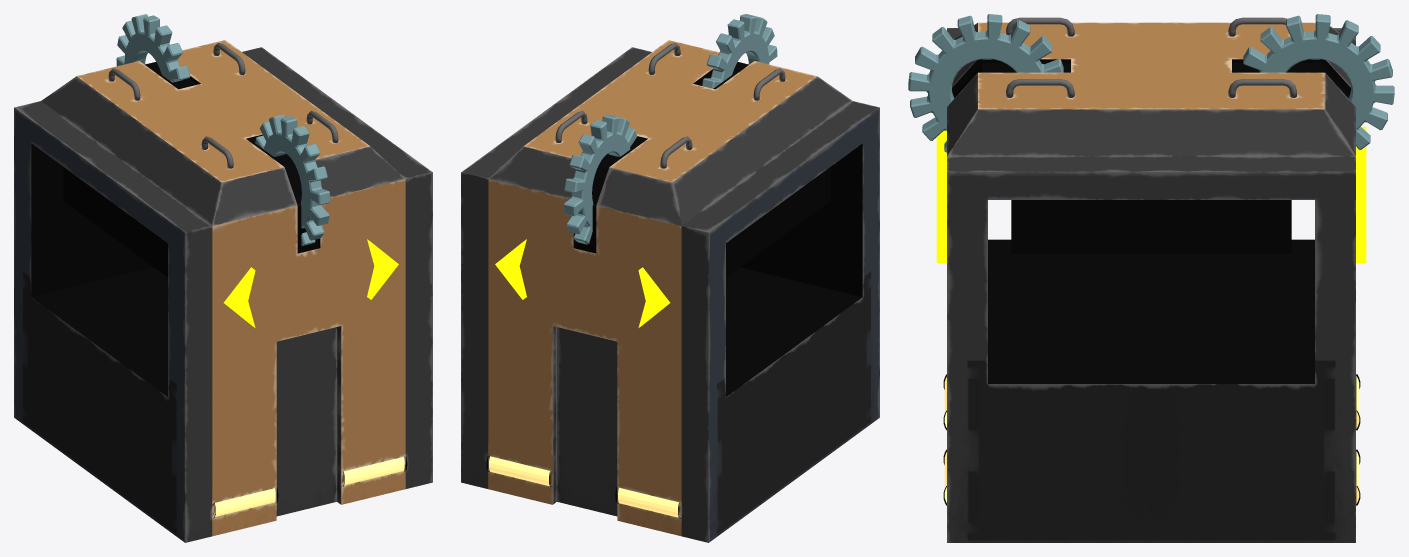
Rendered from constructor.gltf.
3 views of the same model, side by side, from view 1: azimuth 30°, elevation 25°; view 2: azimuth 150°, elevation 25°; view 3: azimuth 270°, elevation 25° (orthographic). The views are drawn at different scales.
Parts seen in each view (by area): view 1: constructor, LeftArrow_z-, RightArrow_z-; view 2: constructor, RightArrow_z+, LeftArrow_z+; view 3: constructor, LeftArrow_z+, RightArrow_z-, LeftArrow_z-.
Part boxes in pixels (x1=…): constructor: x1=14, y1=14, x2=432, y2=542; LeftArrow_z-: x1=223, y1=267, x2=255, y2=327; RightArrow_z-: x1=367, y1=239, x2=398, y2=299; constructor: x1=461, y1=14, x2=879, y2=542; RightArrow_z+: x1=638, y1=267, x2=670, y2=327; LeftArrow_z+: x1=495, y1=239, x2=526, y2=299; constructor: x1=908, y1=14, x2=1394, y2=542; LeftArrow_z+: x1=1356, y1=194, x2=1366, y2=263; RightArrow_z-: x1=936, y1=194, x2=946, y2=263; LeftArrow_z-: x1=936, y1=130, x2=946, y2=193.
Size of the model in its own units: 1.67 by 2.45 by 2.38.
7 materials, 2 textured.
